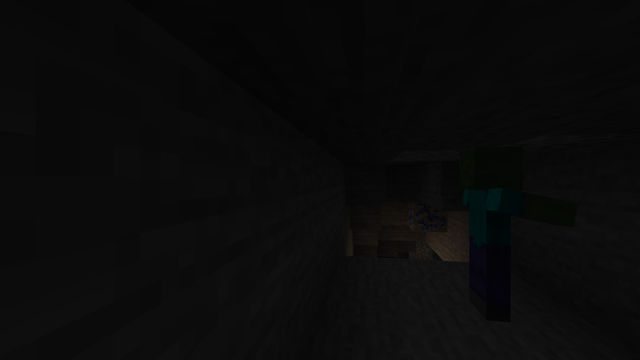zombies: (453, 150, 529, 326)
